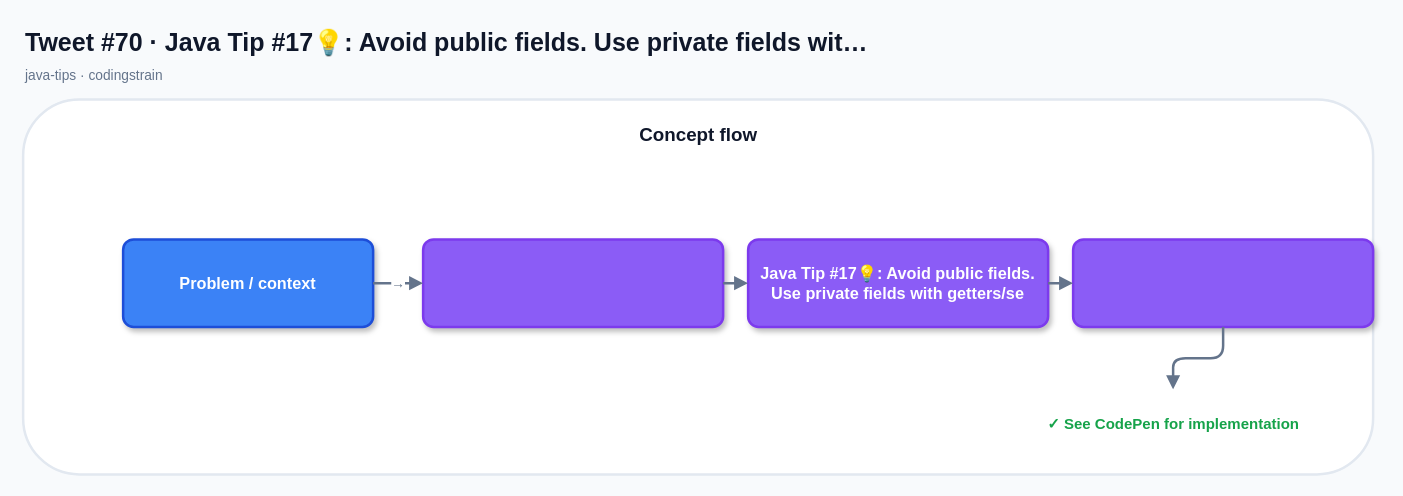
The diagram is 1403 pixels wide and 496 high, and some of its shapes have lost their labels. The centre of each missing label's shape, as x and y in pixels:
"Runnable sample: `java-tips`" belongs at [1223,284].
"💡 Java Tip #17💡: Avoid public fields. Use private fields with getters/" belongs at [573,284].
